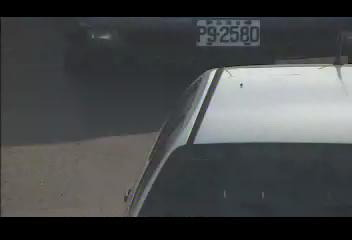plate: (193, 18, 264, 47)
